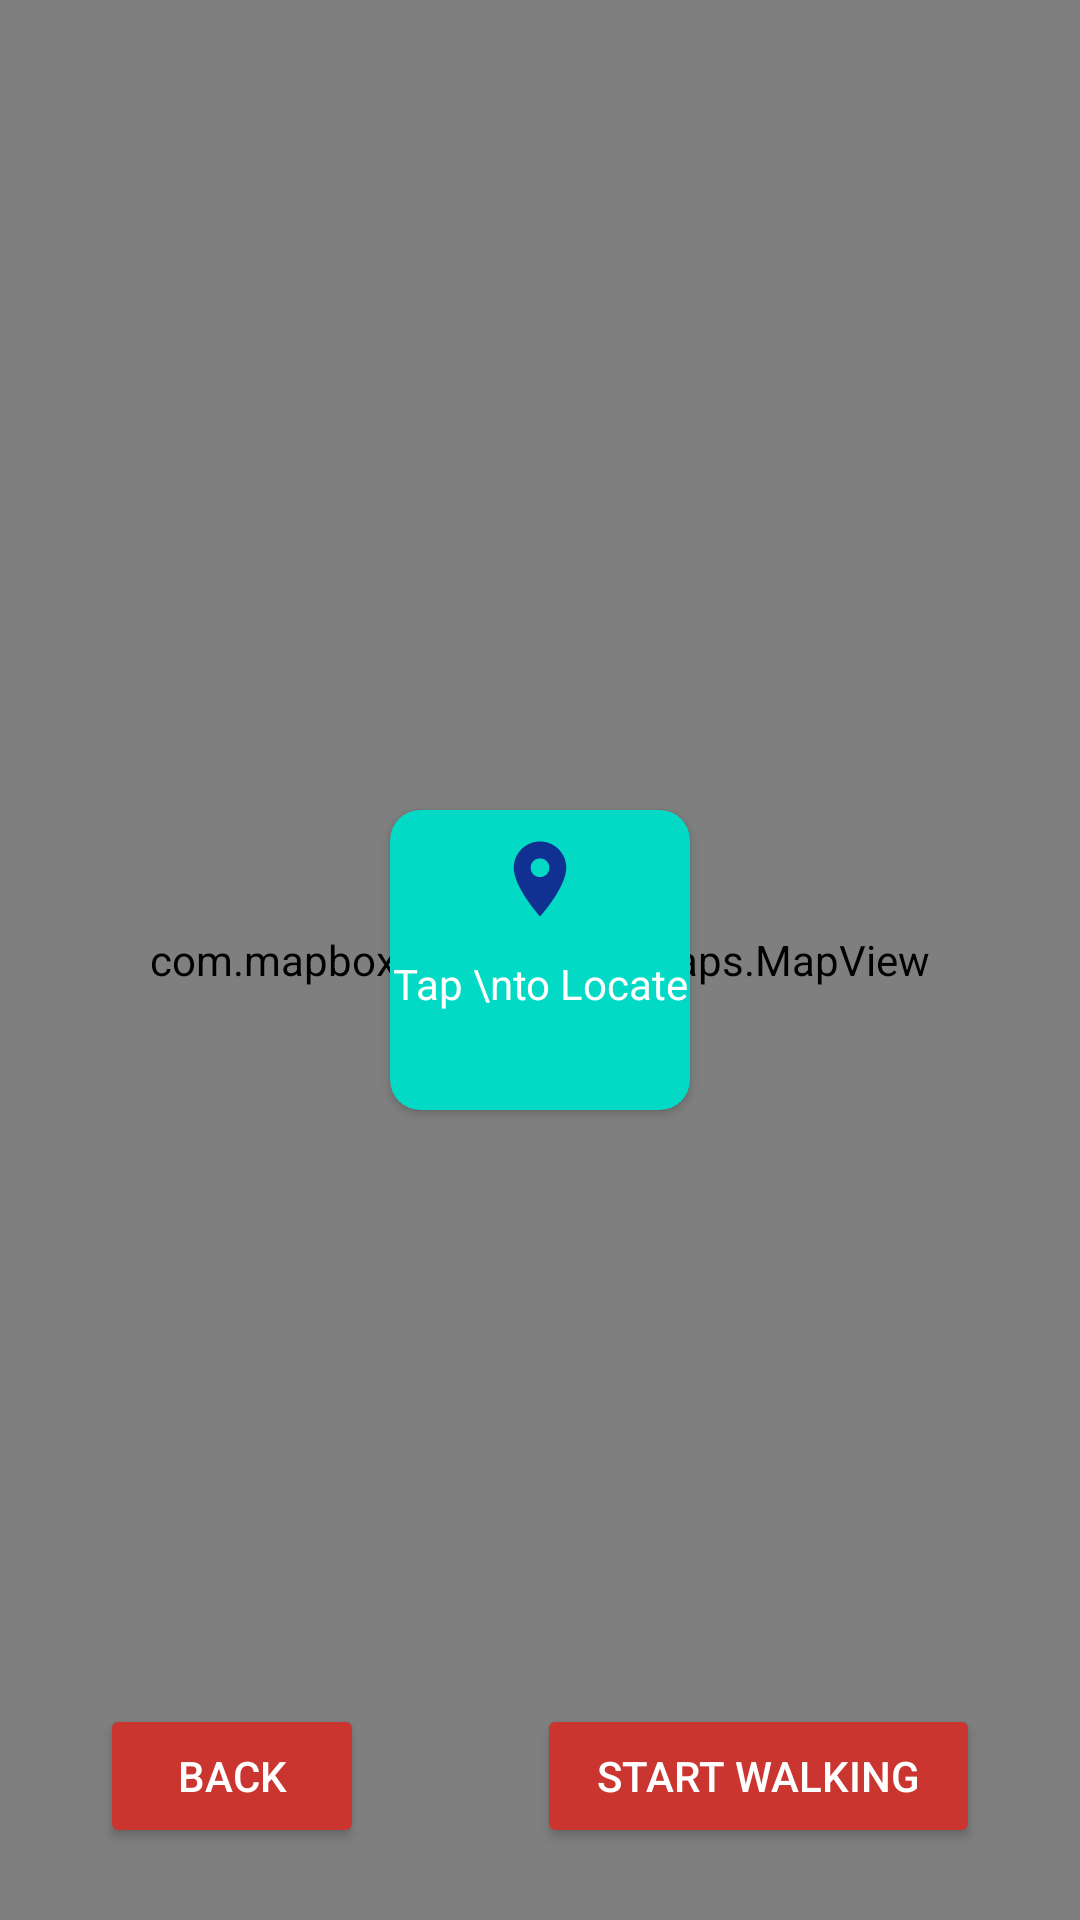

Where icons sit on this 1080x1920 app screen, as (x1, y1, x2, y2):
location on: (513, 841, 567, 916)
